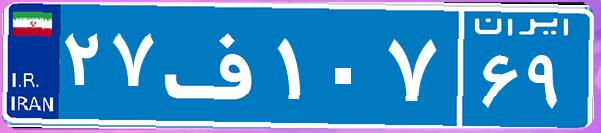0: (330, 28, 385, 110)
1: (273, 28, 330, 110)
2: (57, 26, 110, 107)
6: (475, 38, 525, 113)
7: (385, 28, 445, 110), (110, 28, 158, 105)
9: (525, 38, 570, 115)
ف: (158, 15, 273, 115)
